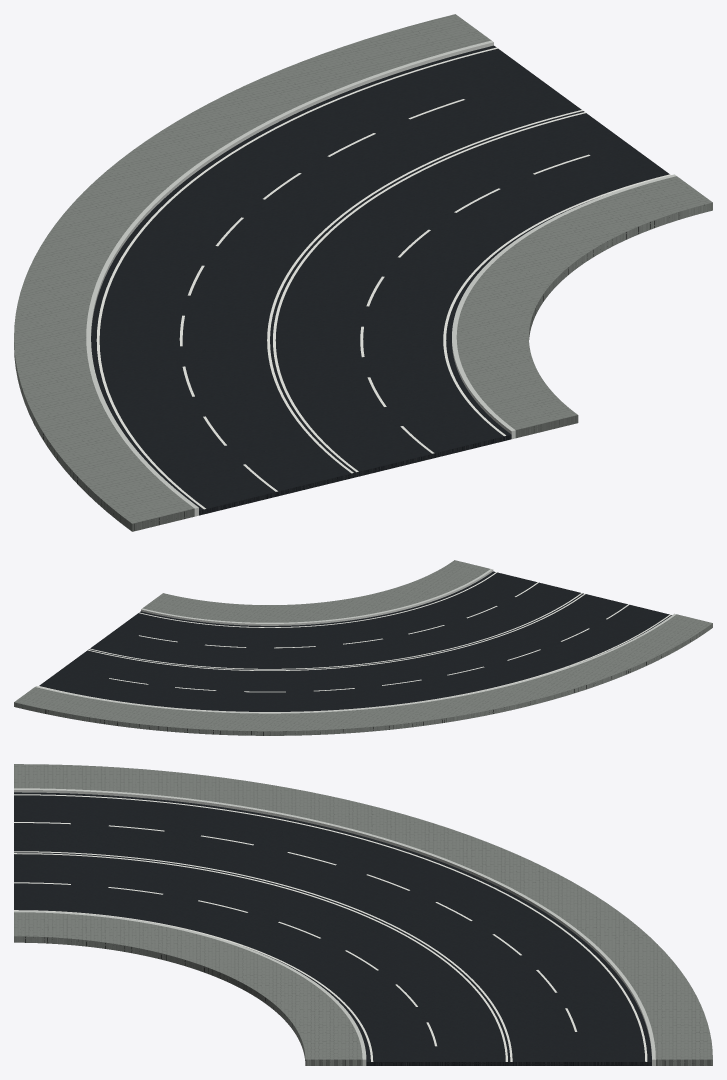
3 views of the same model, one above another, from view 1: azimuth 30°, elevation 25°; view 2: azimuth 150°, elevation 25°; view 3: azimuth 270°, elevation 25° (orthographic). The views are drawn at different scales.
Visible parts, largest first — view 1: COL_Asphalt.002, COL_Paving.002, Markings_White.002, COL_Concrete.002, Curb_Concrete.002; view 2: COL_Asphalt.002, COL_Paving.002, Markings_White.002, COL_Concrete.002, Curb_Concrete.002; view 3: COL_Asphalt.002, COL_Paving.002, Markings_White.002, COL_Concrete.002, Curb_Concrete.002.
Boxes of the visible parts, bbox=[...] form: COL_Asphalt.002: bbox=[91, 45, 669, 515]; COL_Paving.002: bbox=[14, 14, 712, 531]; Markings_White.002: bbox=[96, 47, 670, 509]; COL_Concrete.002: bbox=[86, 40, 676, 516]; Curb_Concrete.002: bbox=[86, 41, 673, 504]; COL_Asphalt.002: bbox=[39, 571, 671, 711]; COL_Paving.002: bbox=[14, 560, 712, 735]; Markings_White.002: bbox=[38, 572, 670, 712]; COL_Concrete.002: bbox=[35, 569, 676, 713]; Curb_Concrete.002: bbox=[41, 569, 674, 713]; COL_Asphalt.002: bbox=[14, 792, 651, 1065]; COL_Paving.002: bbox=[14, 764, 712, 1065]; Markings_White.002: bbox=[14, 794, 647, 1061]; COL_Concrete.002: bbox=[14, 788, 655, 1065]; Curb_Concrete.002: bbox=[19, 788, 655, 1059].
Size of the model in its own units: 3670 by 37 by 3670.
Materials: 4 (2 with a texture image).
